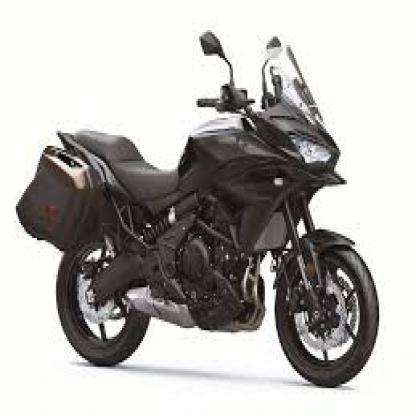Motorcycle: (2, 18, 382, 387)
